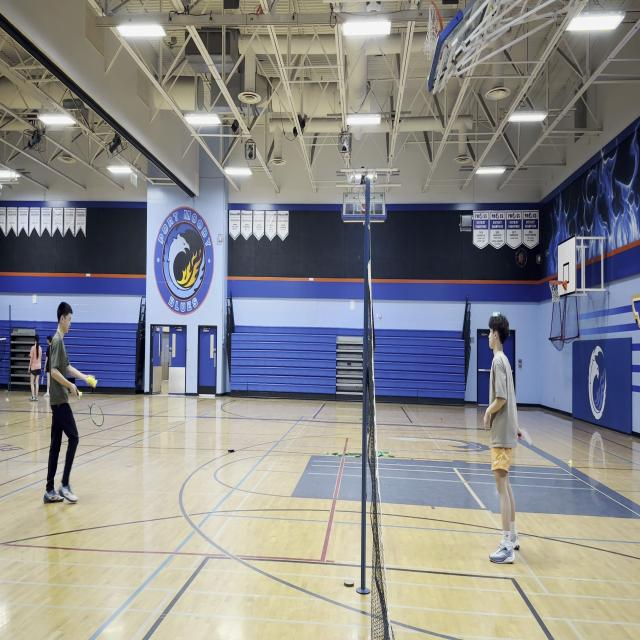shuttlecock: (85, 375, 97, 387), (77, 390, 83, 399)
